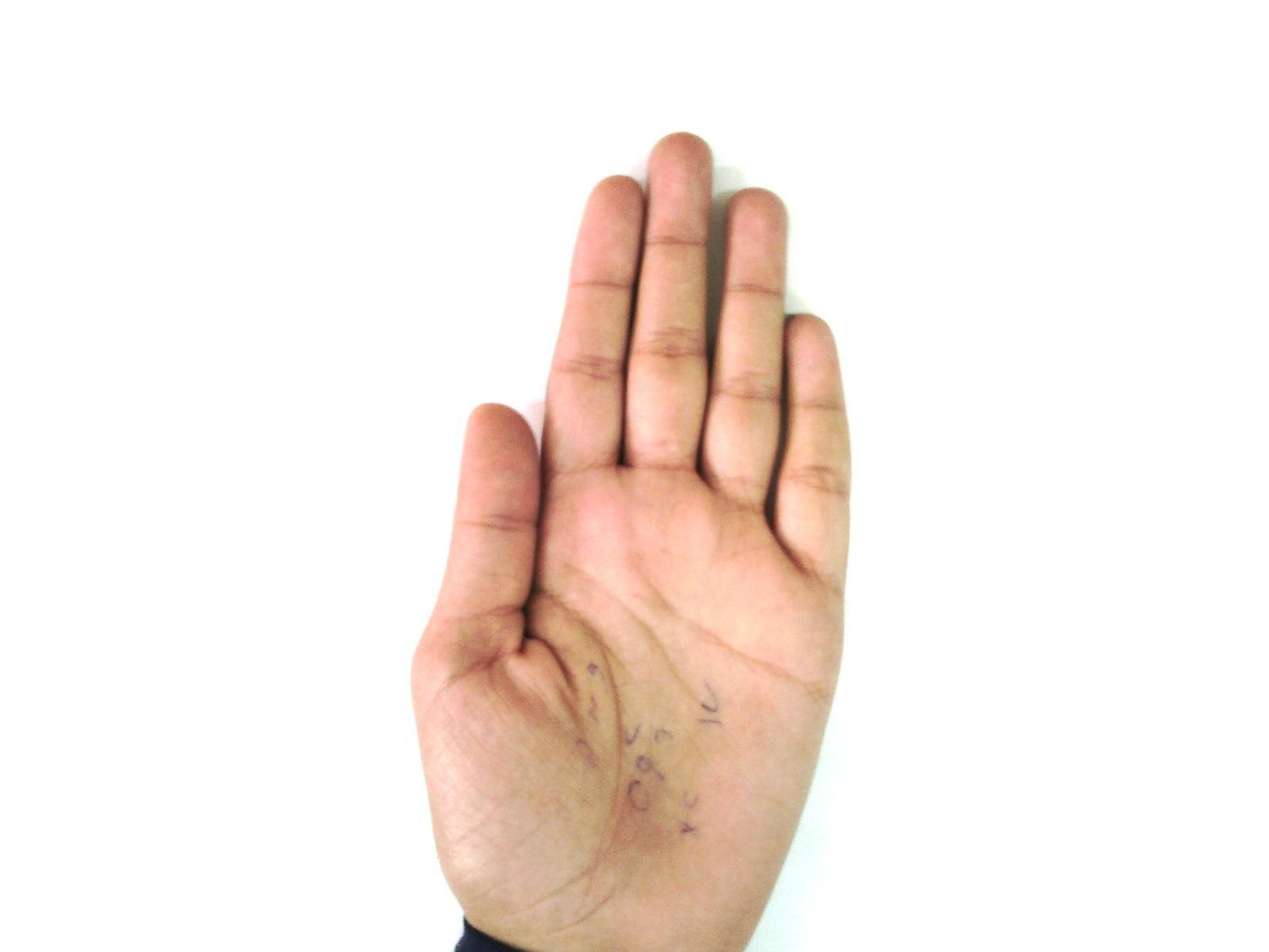open_palm: (408, 131, 856, 950)
